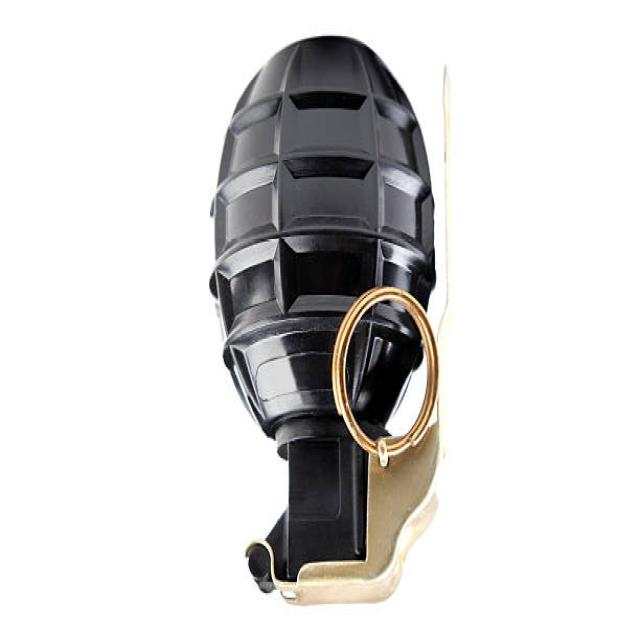grenade: (208, 31, 461, 619)
